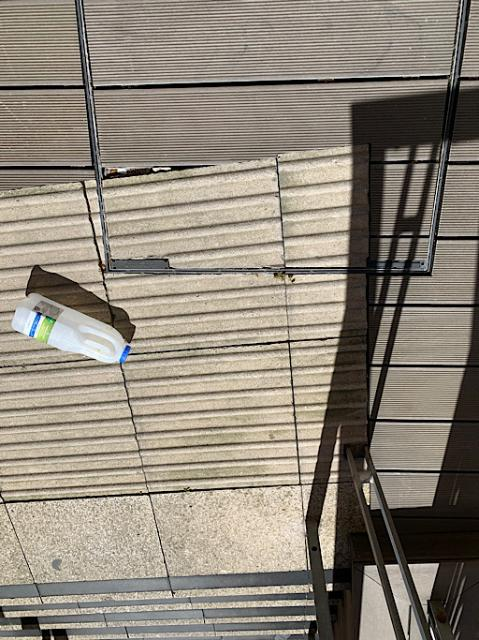plastic: (11, 292, 128, 362)
